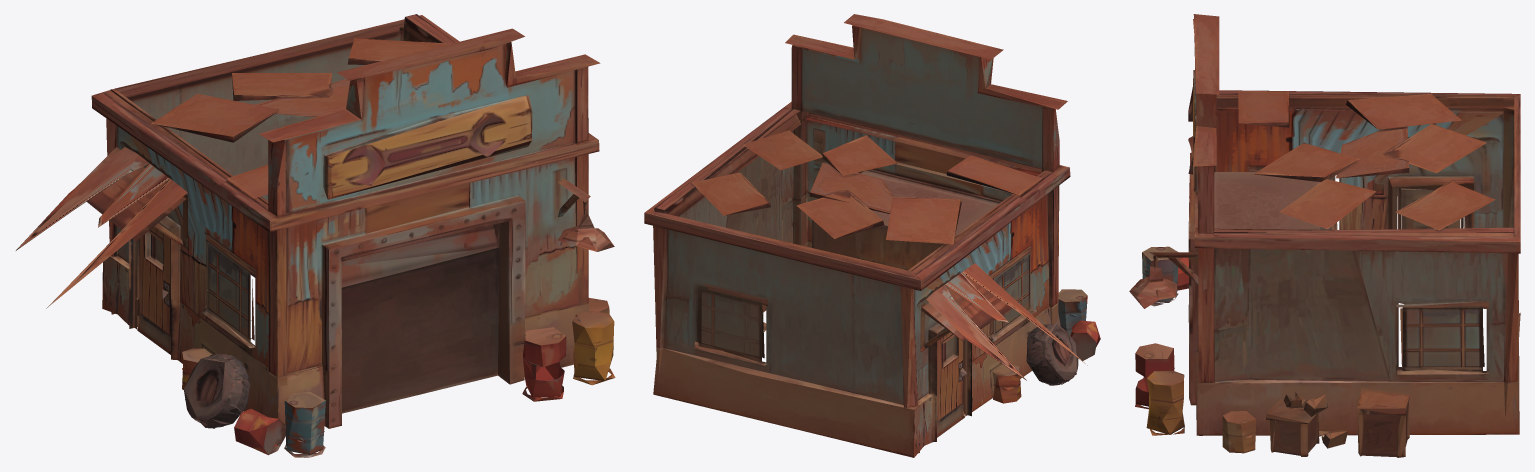
Rendered from wl_garage_far_a.glb.
3 views of the same model, side by side, from view 1: azimuth 30°, elevation 25°; view 2: azimuth 150°, elevation 25°; view 3: azimuth 270°, elevation 25° (orthographic). The views are drawn at different scales.
Visible parts, largest first — view 1: wl_garage; view 2: wl_garage; view 3: wl_garage.
Part boxes in pixels (x1,y1,x2,y2): wl_garage: (16,14,615,457); wl_garage: (644,14,1100,457); wl_garage: (1129,14,1520,457).
Bounding box in the file's own units: 7.39 × 5 × 5.51.
1 material, 1 textured.
